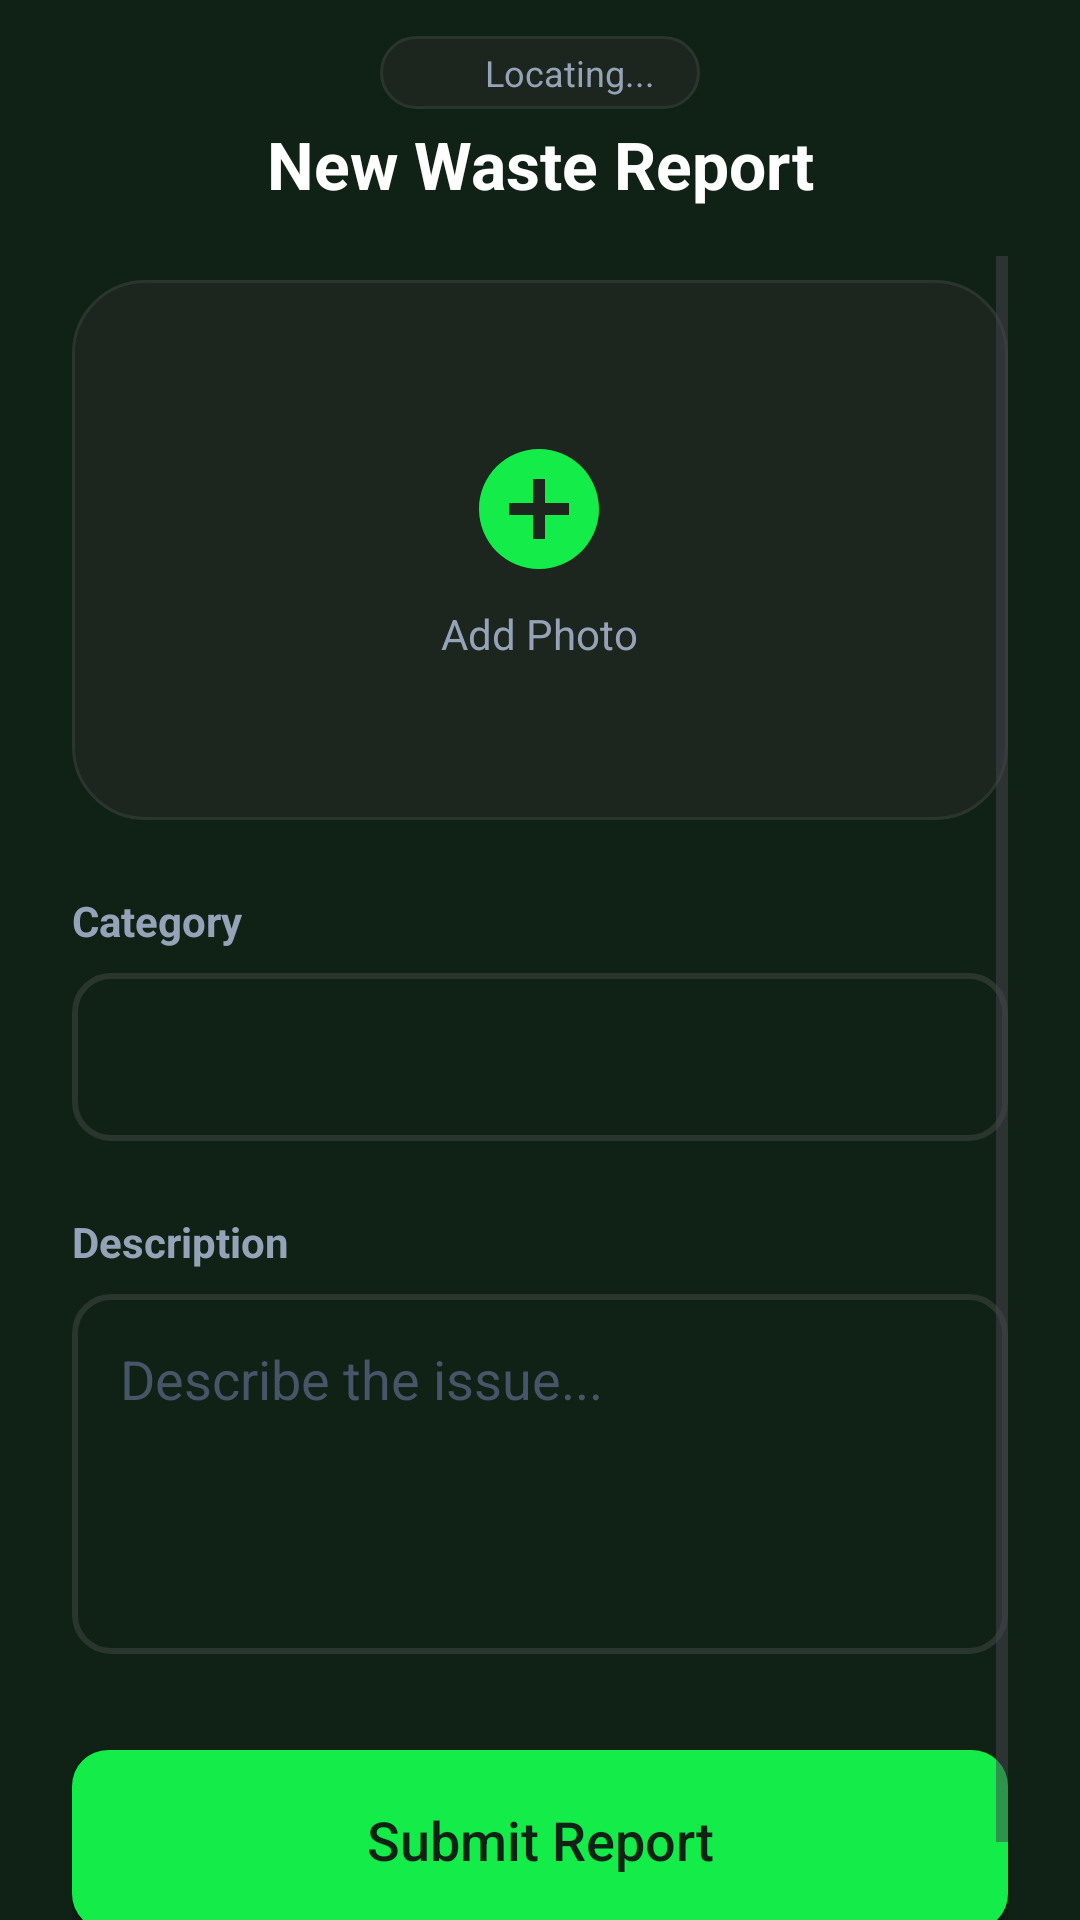

Where to tap for icons on this 1080×1920 app screen, as [x,y]:
add circle: [539,509]
